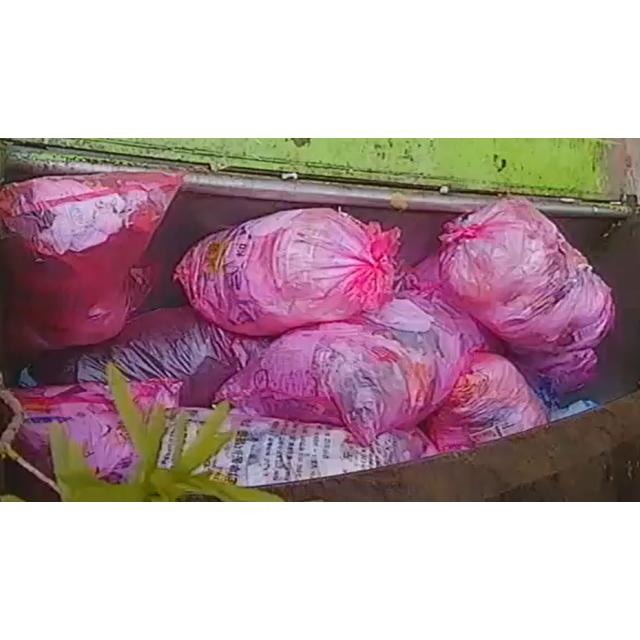other_trashbag: (216, 256, 485, 444), (439, 198, 615, 391), (0, 173, 181, 350), (174, 208, 400, 335), (78, 307, 271, 406), (206, 410, 435, 486), (12, 382, 138, 484), (425, 353, 548, 453), (129, 379, 182, 411)
